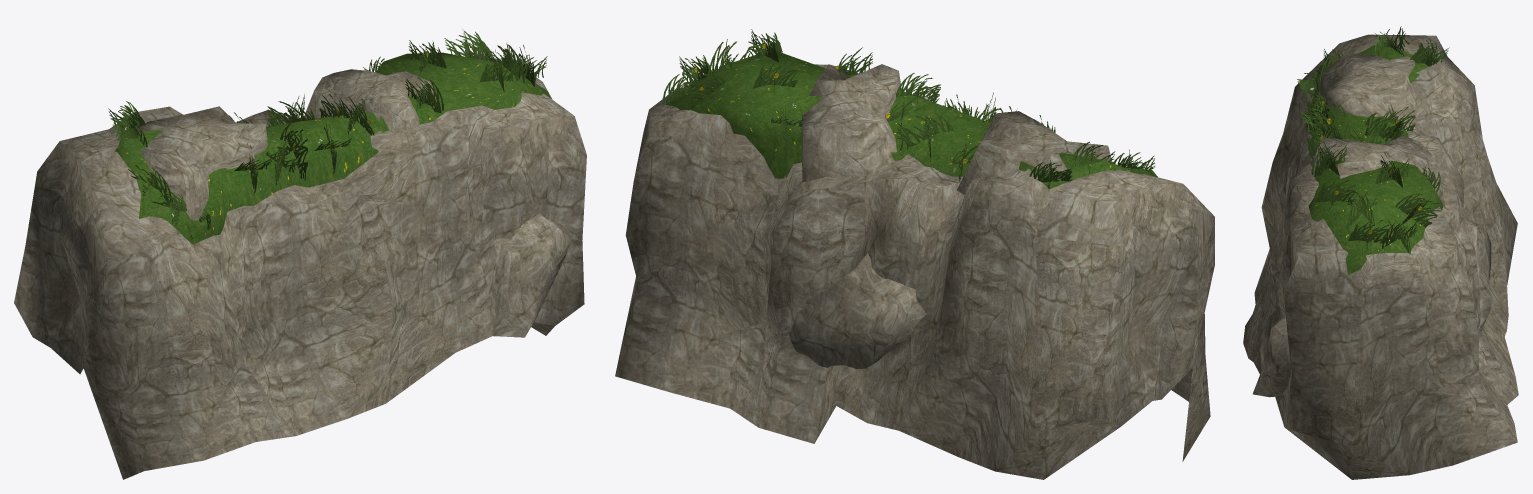
The model's file is rockmediumb.FBX.
3 renders of one model, left to right at view 1: azimuth 30°, elevation 25°; view 2: azimuth 150°, elevation 25°; view 3: azimuth 270°, elevation 25°, orthographic. The views are drawn at different scales.
Parts seen in each view (by area): view 1: C1SNROCKFACE3, GRASS; view 2: C1SNROCKFACE3, GRASS; view 3: C1SNROCKFACE3, GRASS.
Part boxes in pixels (x1,y1,x2,y2): C1SNROCKFACE3: (14, 52, 586, 479); GRASS: (108, 31, 547, 240); C1SNROCKFACE3: (615, 52, 1214, 479); GRASS: (662, 29, 1154, 190); C1SNROCKFACE3: (1243, 34, 1518, 479); GRASS: (1297, 26, 1449, 253).
Size of the model in its own units: 80.38 by 52.72 by 42.78.
3 materials, 3 textured.
